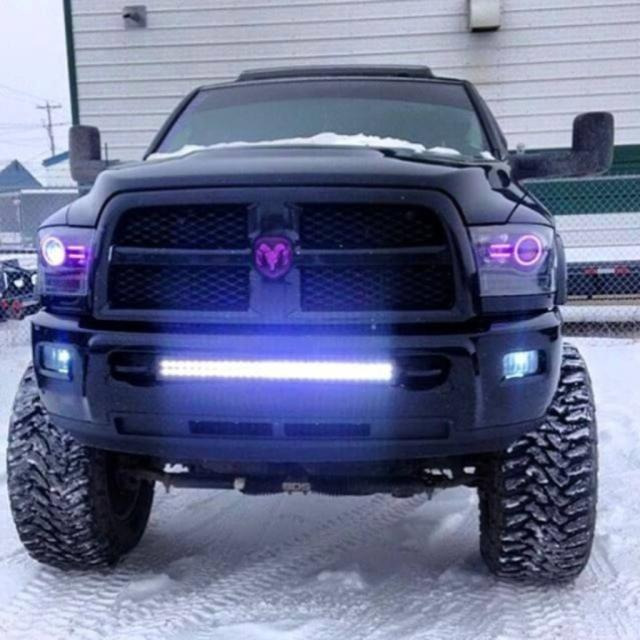car: (0, 62, 597, 587)
